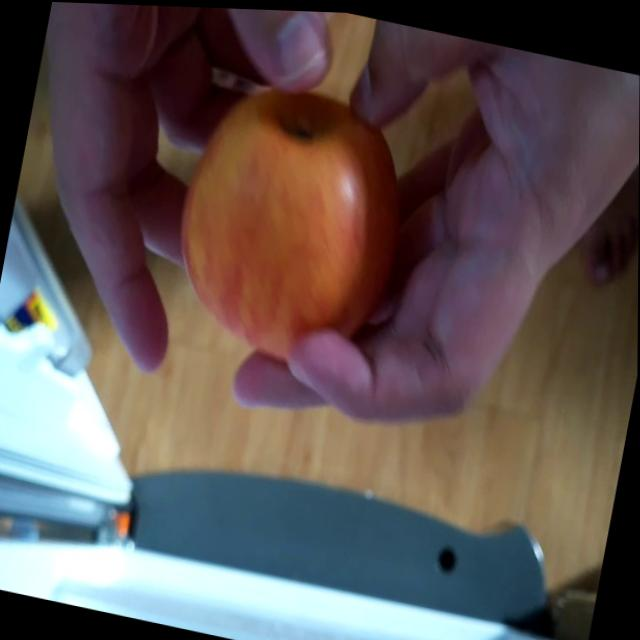apple: (162, 68, 422, 378)
